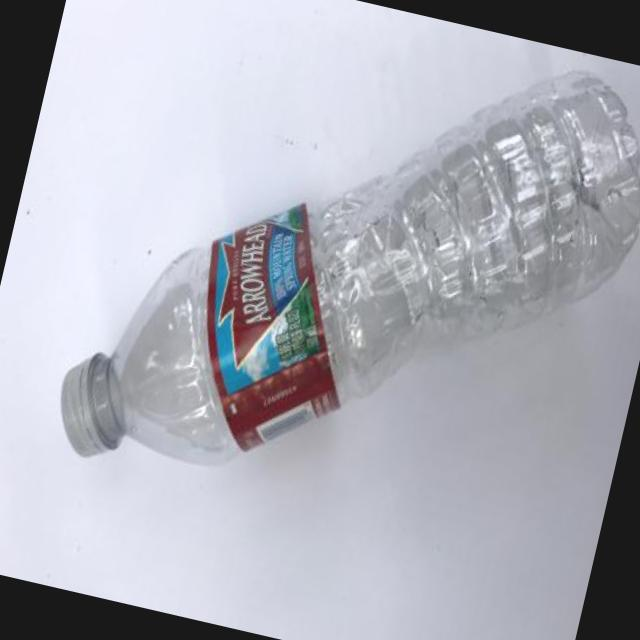Recycle: (41, 0, 640, 573)
